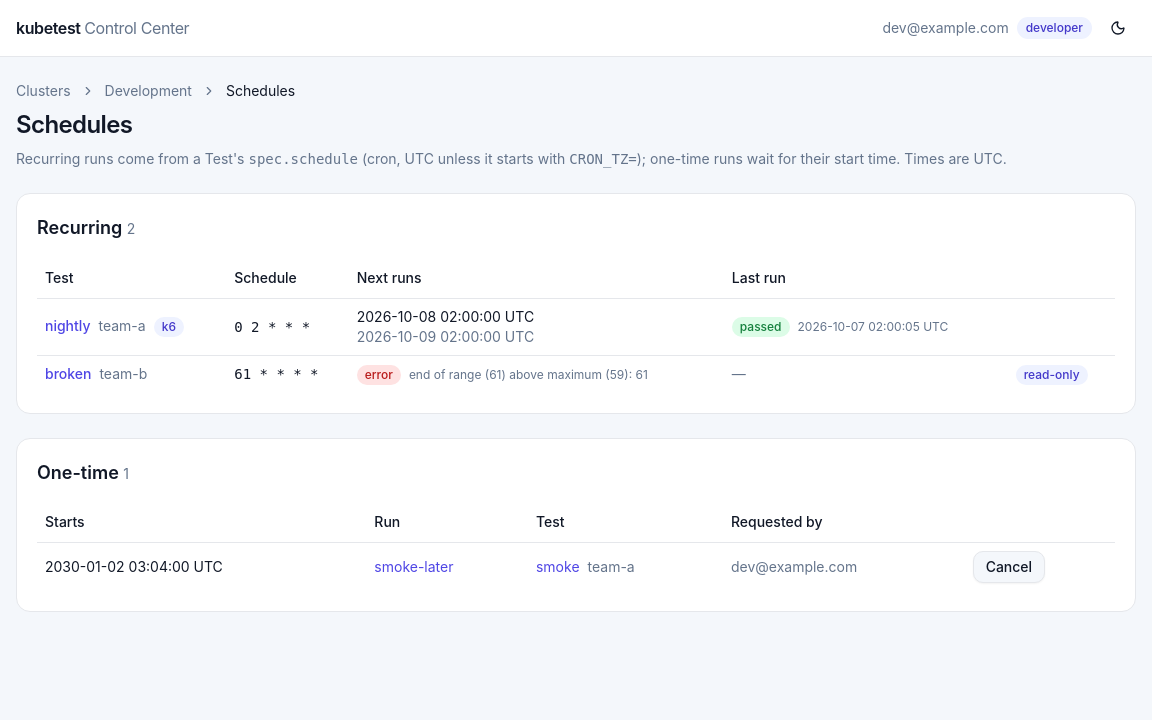
Test case: schedules › cancels a waiting run
Click the button with aria-label "Cancel smoke-later" at (1009, 567), box 973,551 -> 1045,583
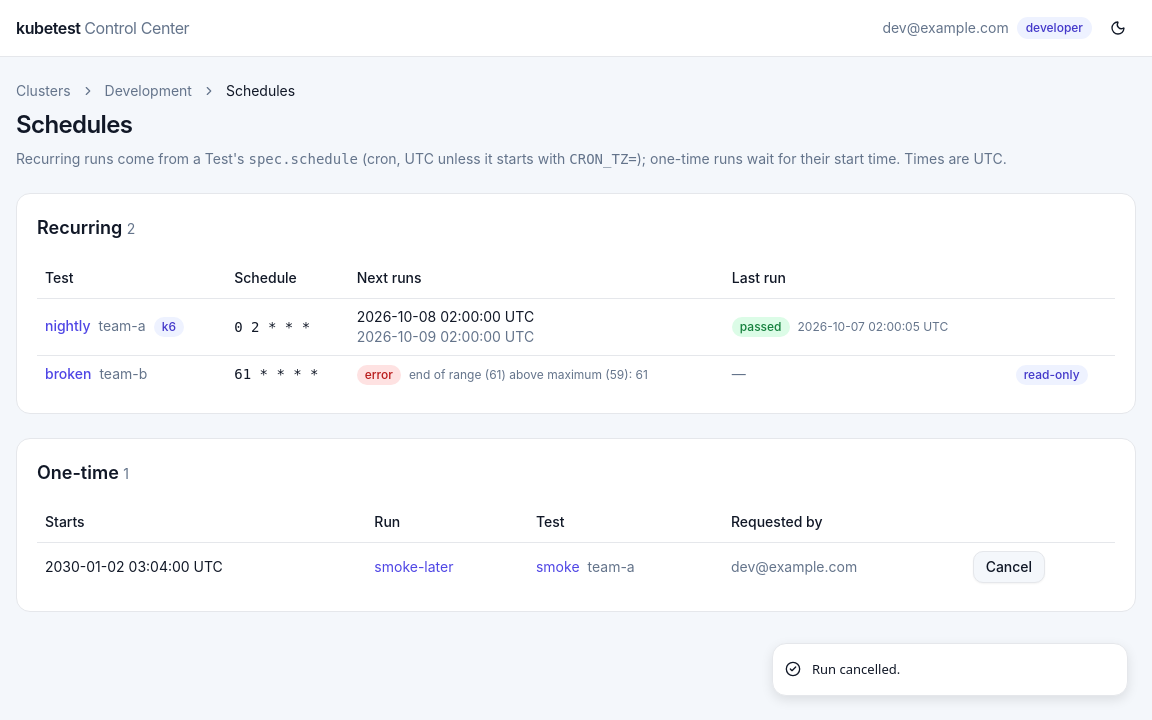
Expected: the text "Run cancelled." is shown, 812,660 -> 900,679
